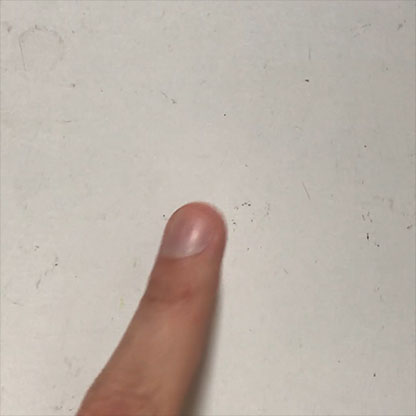fingertip: (155, 190, 231, 280)
